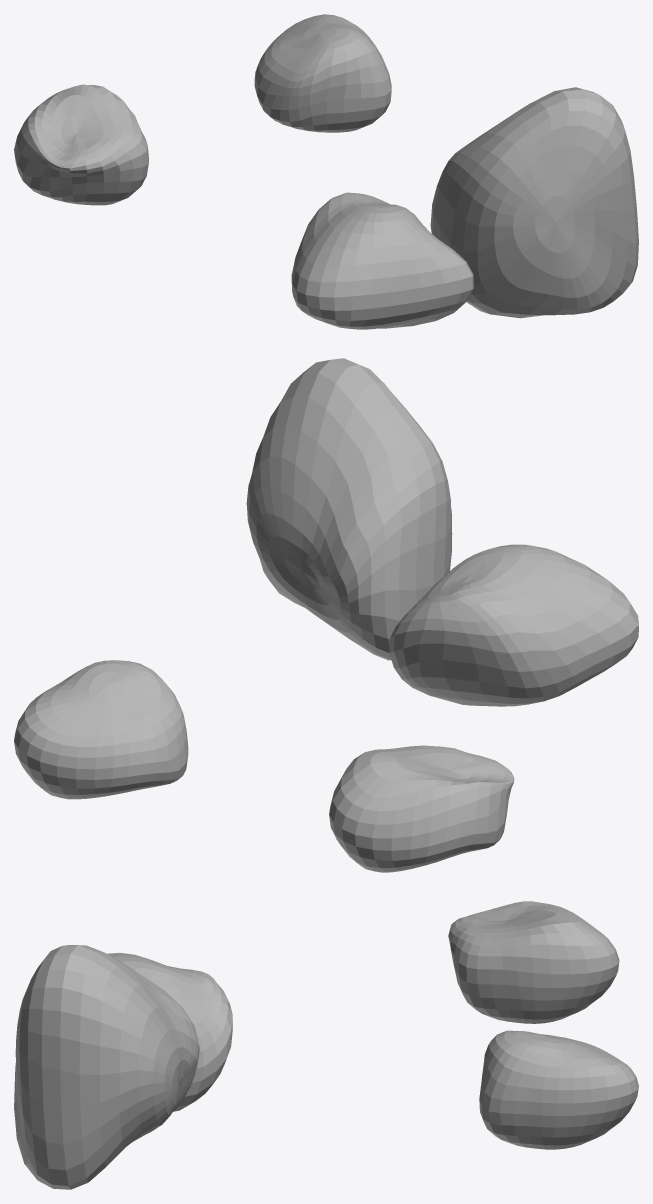
File: rocks-1.gltf
3 views of the same model, one above another, from view 1: azimuth 30°, elevation 25°; view 2: azimuth 150°, elevation 25°; view 3: azimuth 270°, elevation 25° (orthographic). The views are drawn at different scales.
Visible parts, largest first — view 1: Rocks.005; view 2: Rocks.005; view 3: Rocks.005.
Part boxes in pixels (<box>): Rocks.005: <box>14,14,638,329</box>; Rocks.005: <box>14,358,638,872</box>; Rocks.005: <box>14,901,638,1189</box>.
Size of the model in its own units: 0.961 by 0.4993 by 1.21.
1 material, 1 textured.
